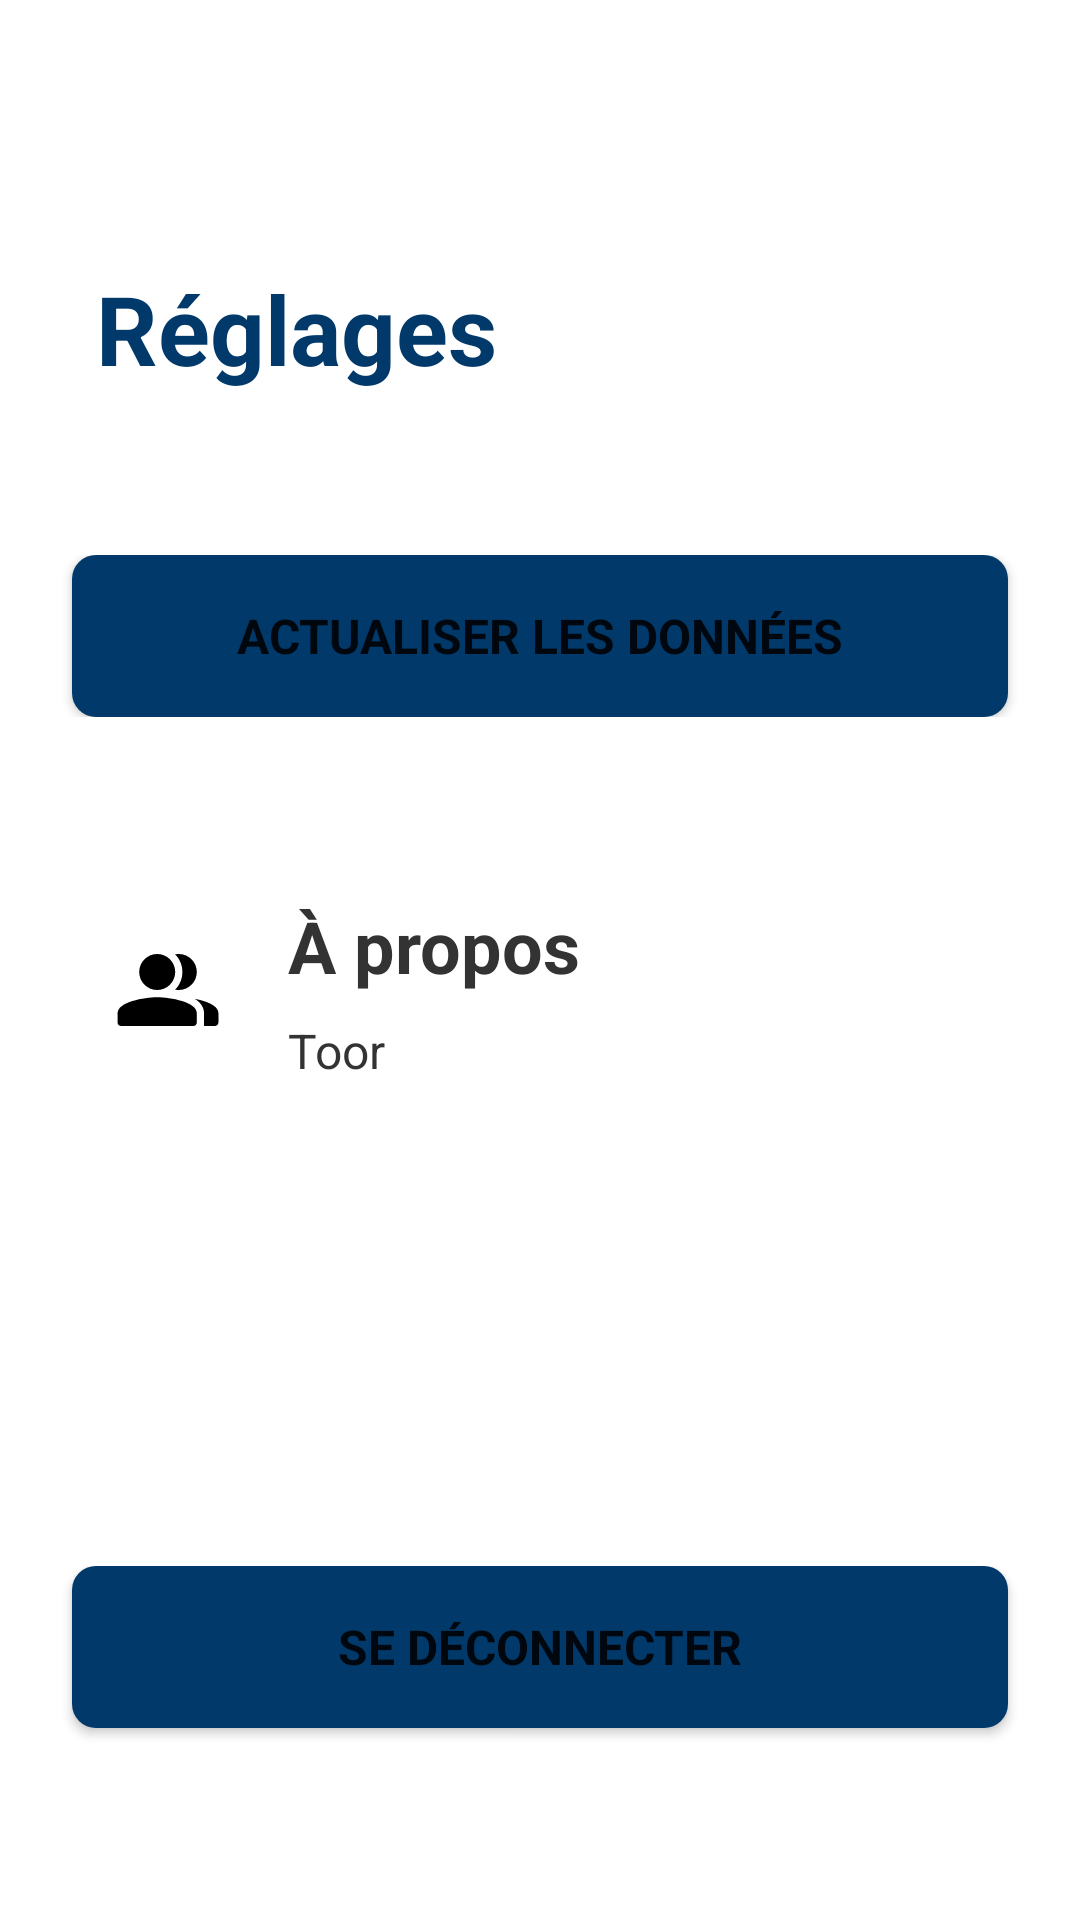

Icon click points for this 1080px×1920px phone screenshot, format [x,y]:
people: [168,990]
